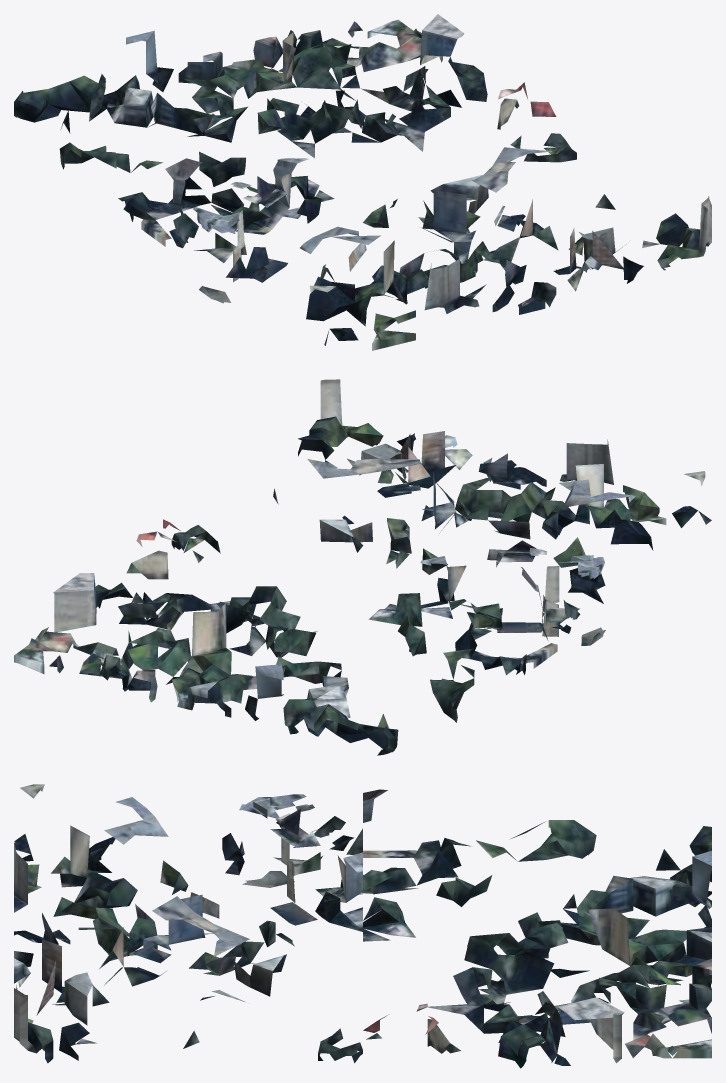
3 renders of one model, top to bottom at view 1: azimuth 30°, elevation 25°; view 2: azimuth 150°, elevation 25°; view 3: azimuth 270°, elevation 25°, orthographic. The views are drawn at different scales.
Visible parts, largest first — view 1: 30436272704361607_1; view 2: 30436272704361607_1; view 3: 30436272704361607_1.
Boxes of the visible parts, x1=… form: 30436272704361607_1: x1=14, y1=14, x2=711, y2=350; 30436272704361607_1: x1=14, y1=379, x2=711, y2=755; 30436272704361607_1: x1=14, y1=784, x2=711, y2=1068.
Size of the model in its own units: 218 by 50.55 by 306.
1 material, 1 textured.
